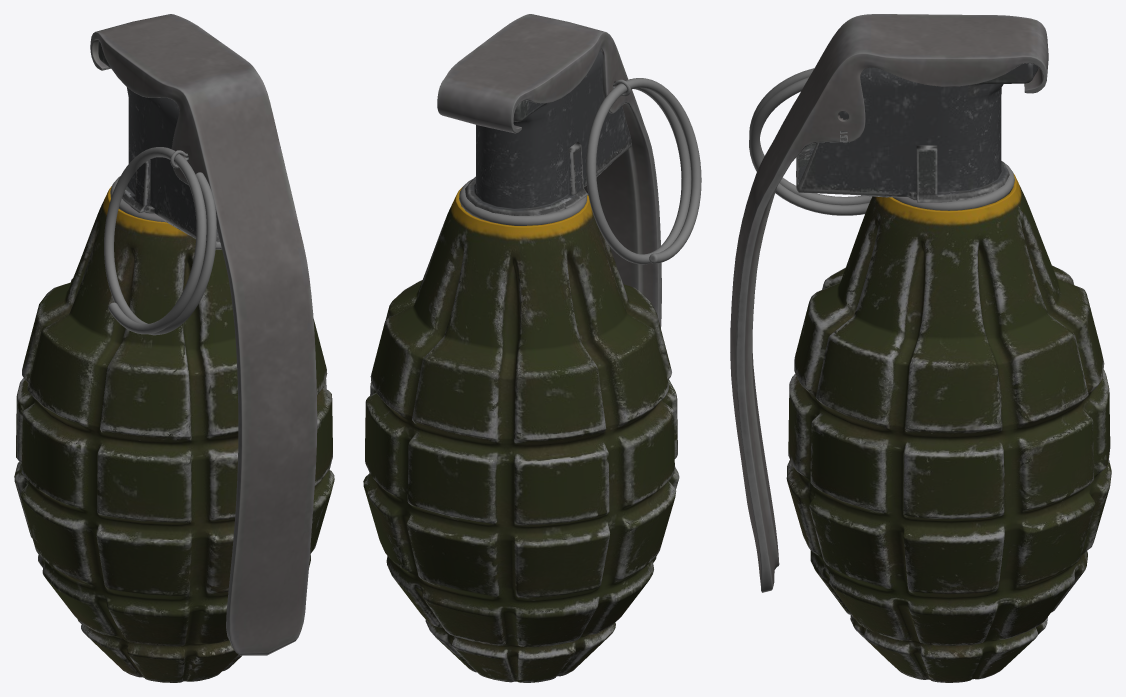
3 views of the same model, side by side, from view 1: azimuth 30°, elevation 25°; view 2: azimuth 150°, elevation 25°; view 3: azimuth 270°, elevation 25° (orthographic). The views are drawn at different scales.
Visible parts, largest first — view 1: polySurface1, polySurface2; view 2: polySurface1, polySurface2; view 3: polySurface1, polySurface2.
Boxes of the visible parts, x1,y1,x2,y2 form: polySurface1: (14,186,334,682); polySurface2: (90,14,317,655); polySurface1: (363,187,679,682); polySurface2: (437,14,701,327); polySurface1: (786,173,1111,682); polySurface2: (730,14,1048,592).
Bounding box in the file's own units: 303 × 636 × 352.
2 materials, 2 textured.
